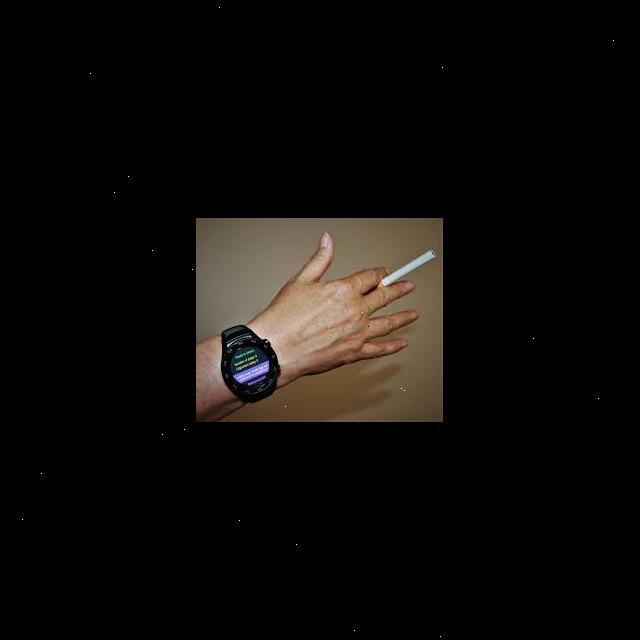watch: (200, 308, 297, 405)
